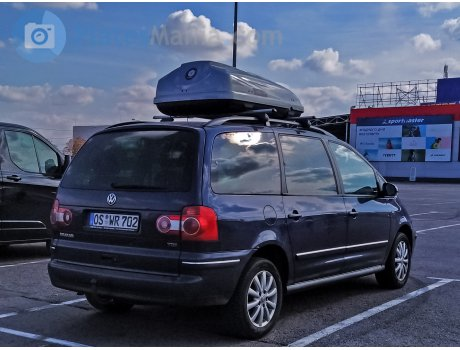License Plates: (86, 211, 138, 231)
